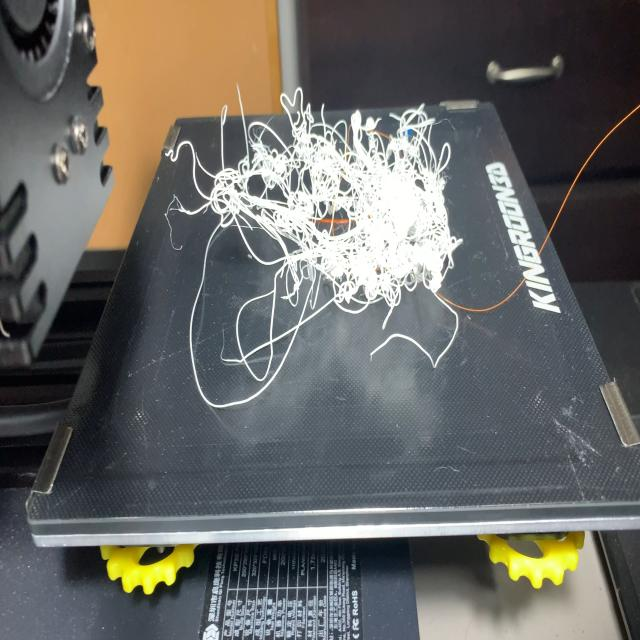spaghetti: (162, 86, 464, 412)
